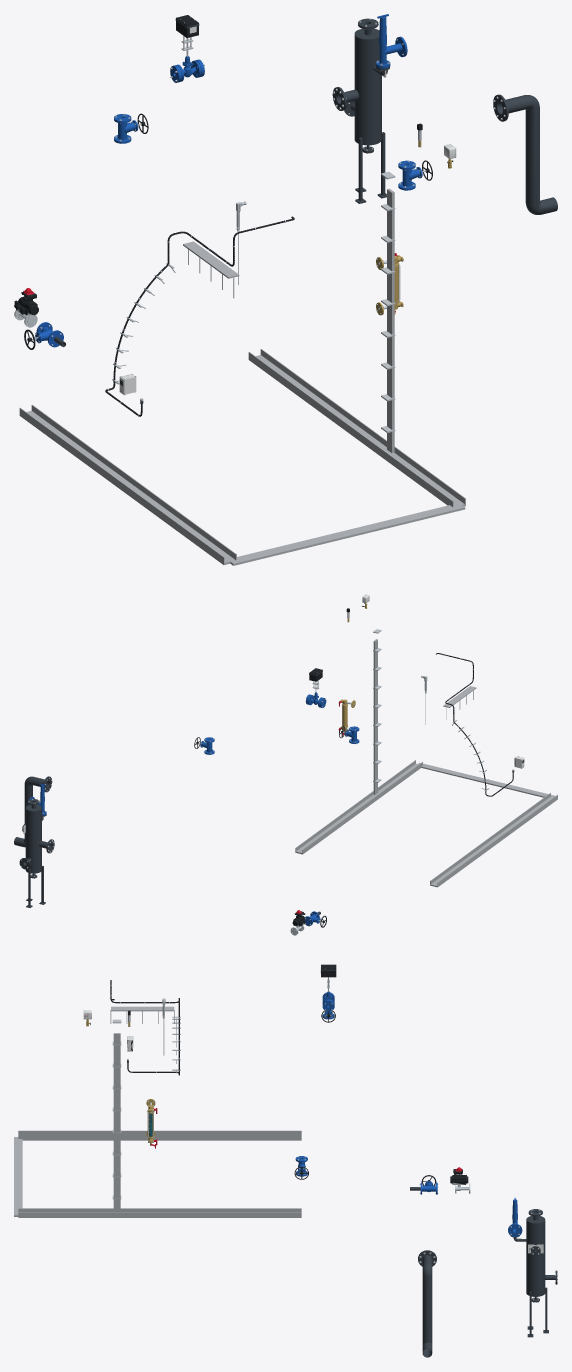
3 renders of one model, top to bottom at view 1: azimuth 30°, elevation 25°; view 2: azimuth 150°, elevation 25°; view 3: azimuth 270°, elevation 25°, orthographic. The views are drawn at different scales.
Visible parts, largest first — view 1: cables / zinc, separator_fv8 / dark, bdv_water_drain / dark, cables / steel, wiring_lcs600 / black, flash_steam_common / blue, bcv7432 / bcv7432_0.npz; view 2: cables / zinc, separator_fv8 / dark, bdv_water_drain / dark; view 3: cables / zinc, separator_fv8 / dark, bdv_water_drain / dark, cables / steel.
Boxes of the visible parts, box(x1,y1,x2,y2) form: cables / zinc: box(19, 188, 465, 565); separator_fv8 / dark: box(332, 18, 390, 203); bdv_water_drain / dark: box(493, 94, 557, 214); cables / steel: box(112, 171, 395, 432); wiring_lcs600 / black: box(105, 216, 294, 416); flash_steam_common / blue: box(376, 14, 407, 68); bcv7432 / bcv7432_0.npz: box(14, 288, 38, 327); cables / zinc: box(295, 639, 557, 887); separator_fv8 / dark: box(19, 799, 54, 907); bdv_water_drain / dark: box(14, 776, 52, 847); cables / zinc: box(14, 1006, 301, 1217); separator_fv8 / dark: box(510, 1209, 557, 1337); bdv_water_drain / dark: box(418, 1250, 436, 1357); cables / steel: box(110, 1010, 180, 1199).
Size of the model in its own units: 5.99 by 3.24 by 6.28.
